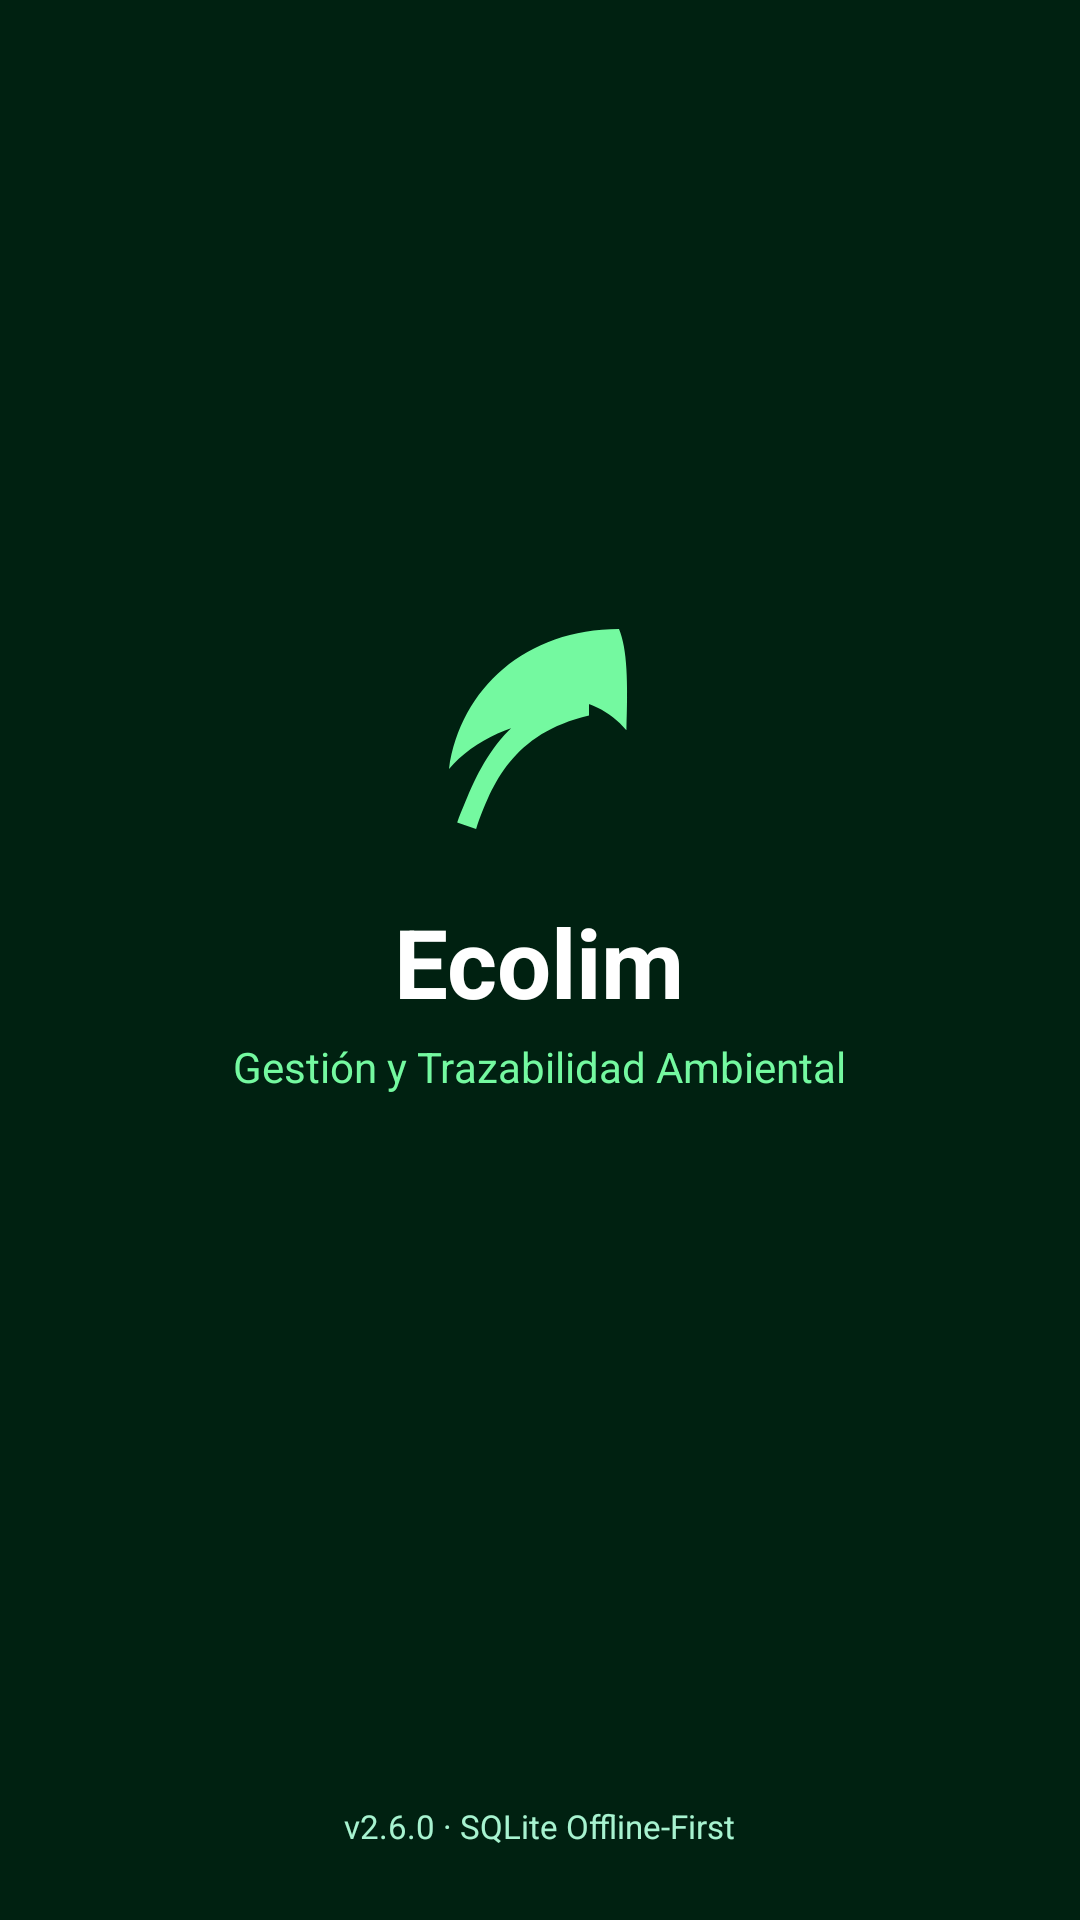

Screen size 1080 × 1920. Icon name, then its center in pixels as (x,y):
eco leaf: (538,729)
